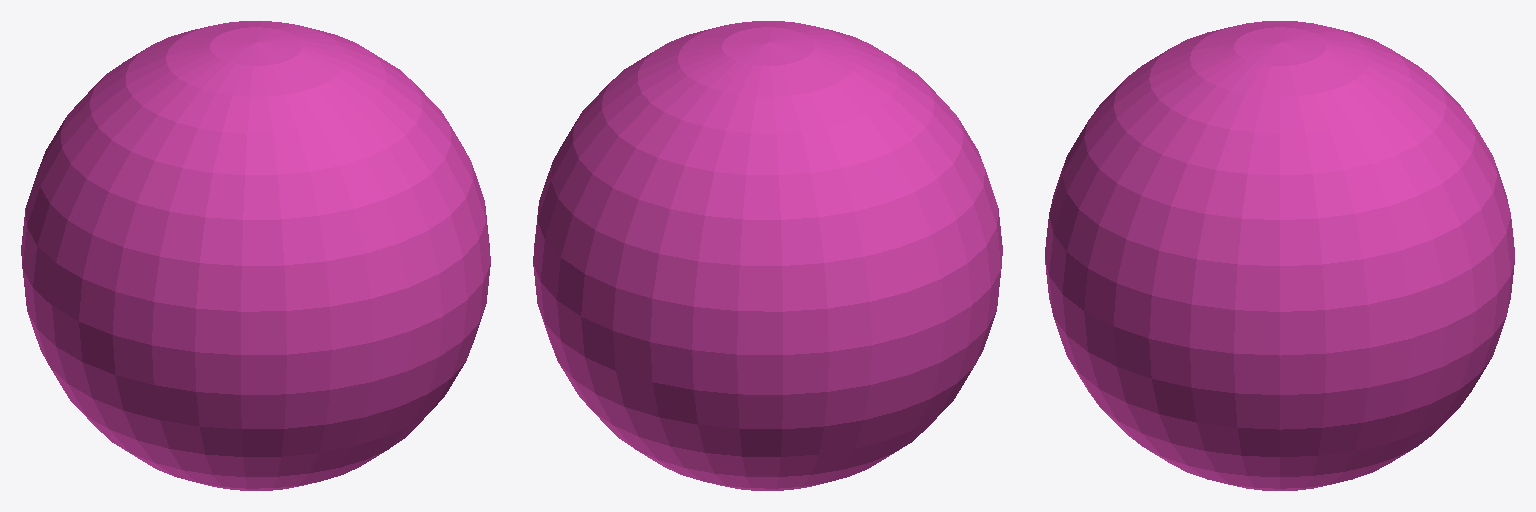
File: ovocyte.obj
The picture shows the model from 3 angles: view 1: azimuth 30°, elevation 25°; view 2: azimuth 150°, elevation 25°; view 3: azimuth 270°, elevation 25°; orthographic projection.
Visible parts, largest first — view 1: Sphere; view 2: Sphere; view 3: Sphere.
Boxes of the visible parts, <box> form: Sphere: <box>21,21,490,490</box>; Sphere: <box>533,21,1002,490</box>; Sphere: <box>1045,21,1514,490</box>.
Size of the model in its own units: 2 by 2 by 2.